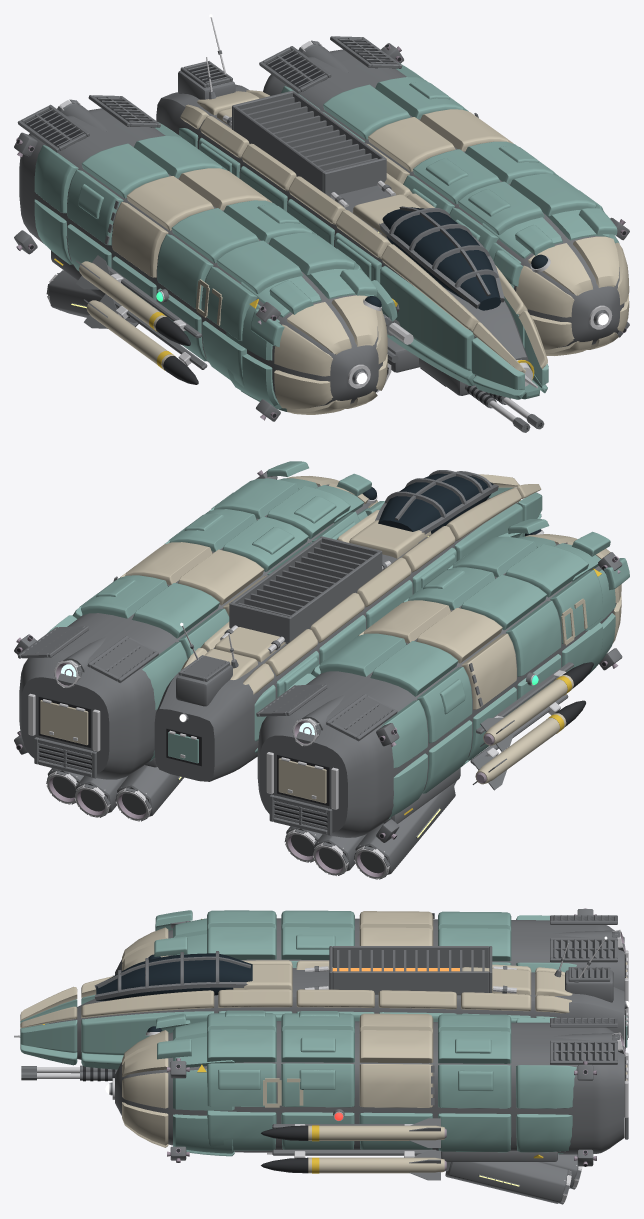
Rendered from interceptor.glb.
3 views of the same model, one above another, from view 1: azimuth 30°, elevation 25°; view 2: azimuth 150°, elevation 25°; view 3: azimuth 270°, elevation 25° (orthographic). The views are drawn at different scales.
Parts seen in each view (by area): view 1: interceptor; view 2: interceptor; view 3: interceptor.
Boxes of the visible parts, x1=… form: interceptor: x1=14, y1=14, x2=629, y2=432; interceptor: x1=14, y1=461, x2=629, y2=879; interceptor: x1=14, y1=908, x2=629, y2=1204.
Bounding box in the file's own units: 5.56 × 2.91 × 7.87.
